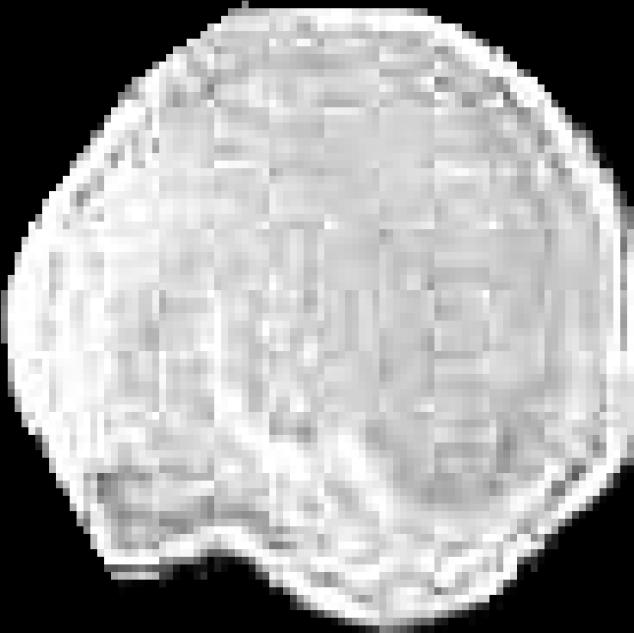tumor_good_chance: (1, 1, 634, 633)
